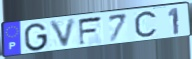1: (167, 7, 181, 37)
7: (108, 12, 128, 44)
C: (133, 9, 159, 41)
F: (77, 15, 104, 48)
G: (24, 22, 49, 52)
V: (48, 17, 78, 50)
